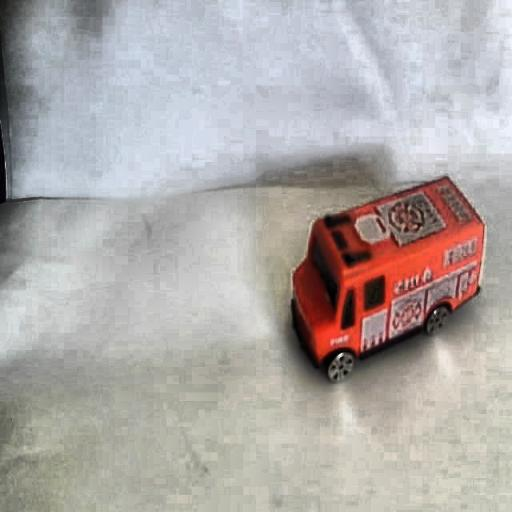fire_truck: (274, 164, 492, 385), (291, 256, 334, 354)
